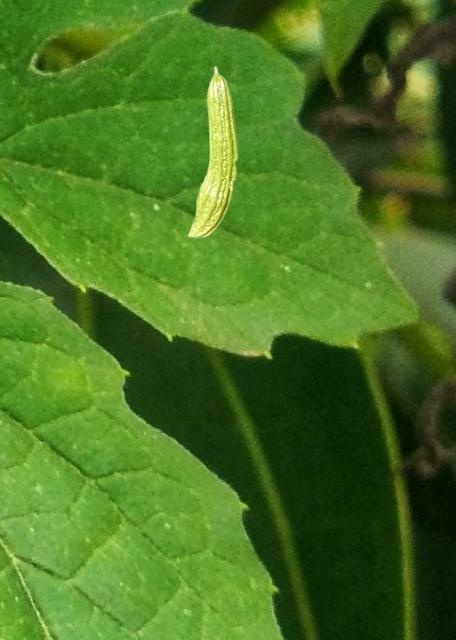ampalaya: (185, 65, 240, 239)
